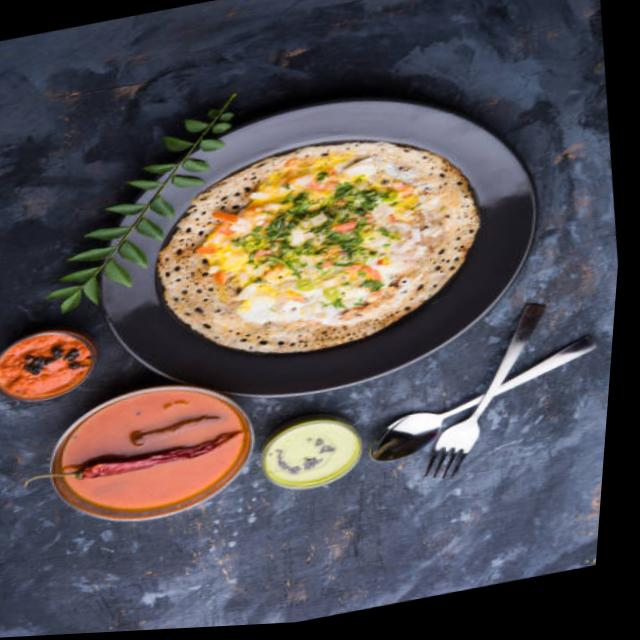DOSA: (159, 141, 472, 356)
RED CHUTNEY: (2, 338, 84, 395)
SAMBAR: (59, 389, 239, 511)
WHITE CHUTNEY: (277, 424, 347, 481)
